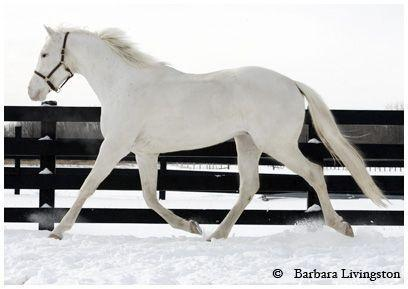horse: (27, 22, 392, 242)
